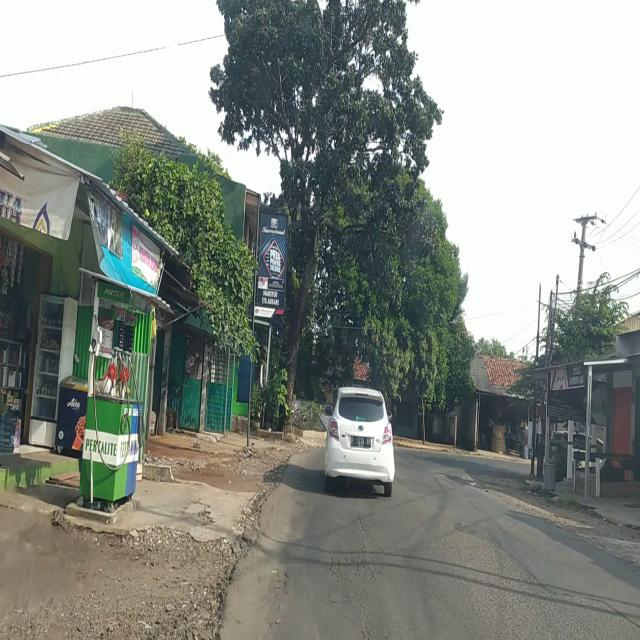Drain Hole: (318, 515, 386, 640), (262, 558, 294, 636)
